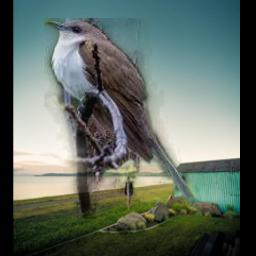Cuckoo: (45, 19, 206, 220)
